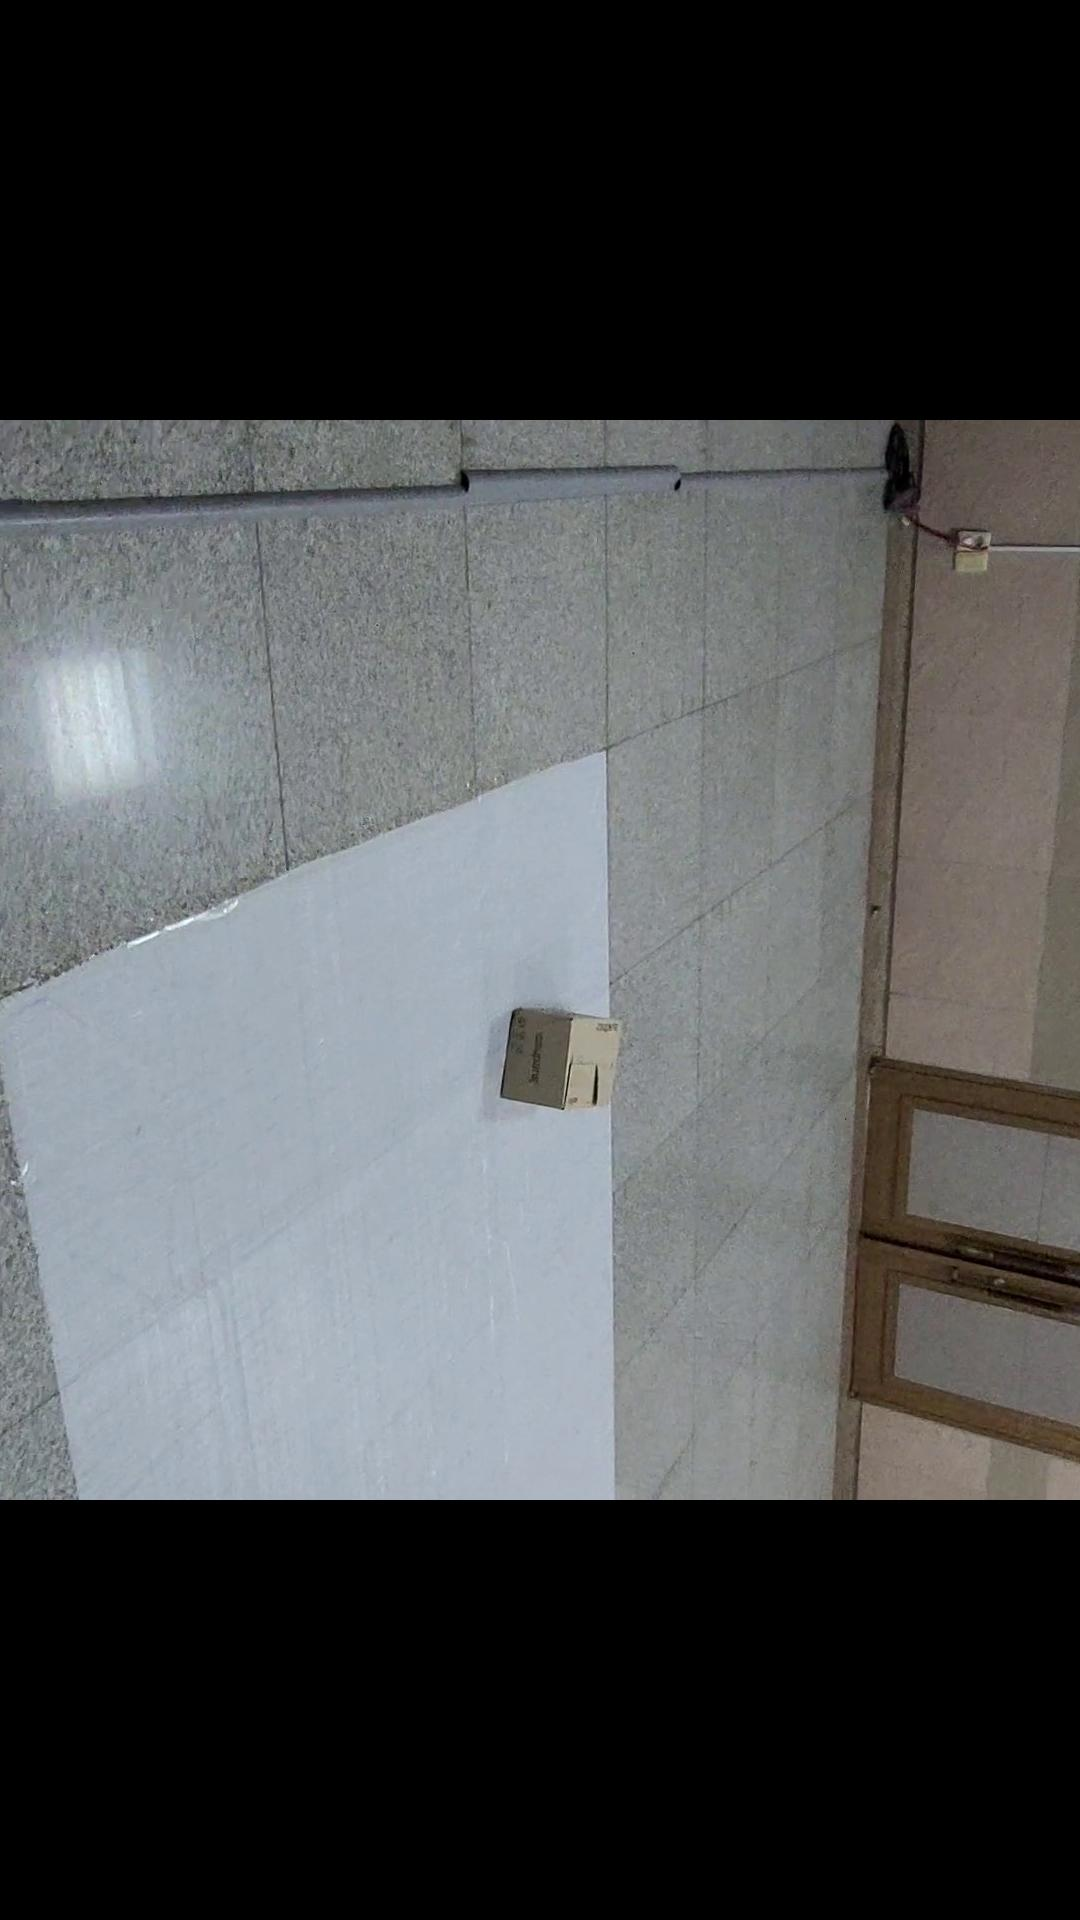Box: (475, 981, 651, 1130)
